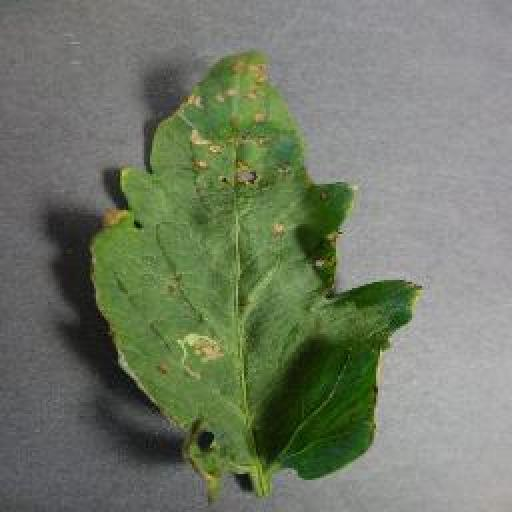Bacterial Spot: (87, 46, 421, 482)
